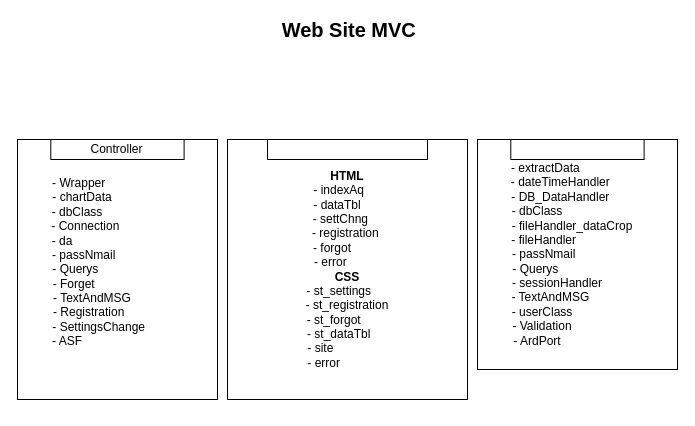
Some shapes in this 695 by 426 pixel diagram are drawn without their labels. Here are the shapes that lost their labels. From the top down, the centre of each, then its label:
the point at 347,149: View
the point at 577,149: Module
